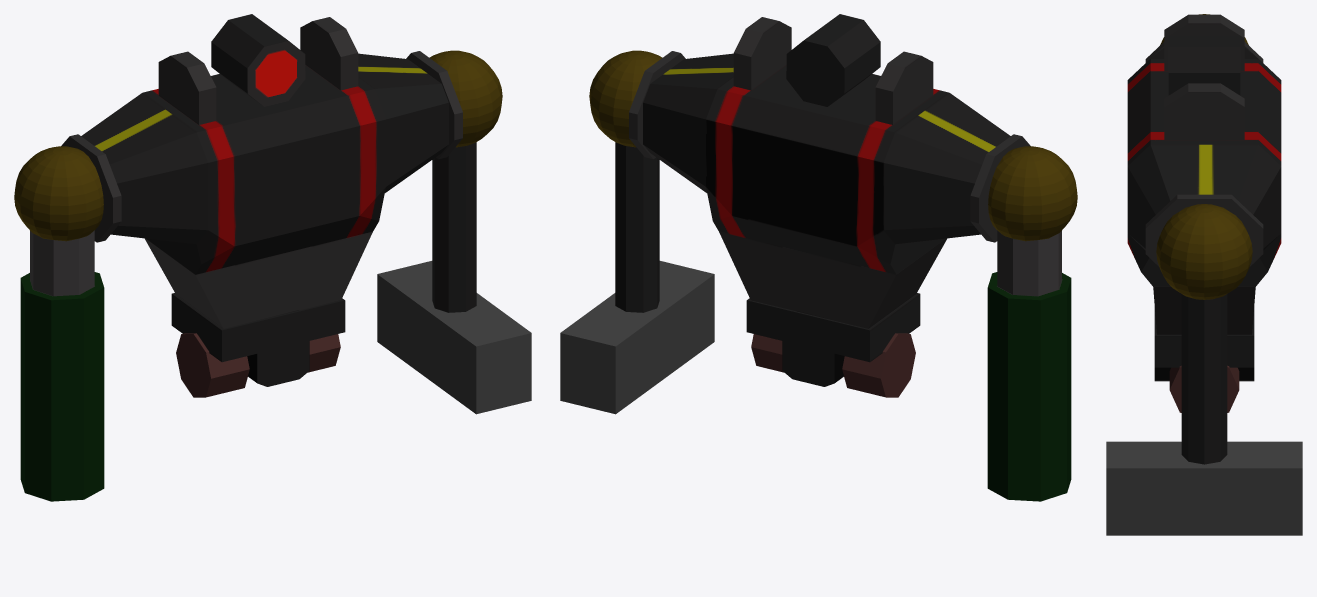
Rendered from Large_Idle.fbx.
3 views of the same model, side by side, from view 1: azimuth 30°, elevation 25°; view 2: azimuth 150°, elevation 25°; view 3: azimuth 270°, elevation 25° (orthographic).
Parts seen in each view (by area): view 1: Cube.036, Cube.031, Cube.032, Cube.030, Cube.035, Cube.033, Cube.034; view 2: Cube.036, Cube.031, Cube.032, Cube.030, Cube.035, Cube.033, Cube.034; view 3: Cube.032, Cube.036, Cube.035, Cube.030, Cube.034.
Boxes of the visible parts, left/top/right/bottom form: Cube.036: left=61, top=17, right=462, bottom=328; Cube.031: left=14, top=146, right=104, bottom=501; Cube.032: left=377, top=50, right=531, bottom=414; Cube.030: left=171, top=293, right=345, bottom=386; Cube.035: left=211, top=14, right=305, bottom=106; Cube.033: left=176, top=333, right=249, bottom=397; Cube.034: left=308, top=334, right=340, bottom=372; Cube.036: left=629, top=17, right=1030, bottom=328; Cube.031: left=987, top=146, right=1077, bottom=501; Cube.032: left=560, top=50, right=714, bottom=414; Cube.030: left=746, top=293, right=920, bottom=386; Cube.035: left=786, top=14, right=880, bottom=106; Cube.033: left=842, top=333, right=915, bottom=397; Cube.034: left=751, top=334, right=783, bottom=372; Cube.032: left=1106, top=204, right=1302, bottom=535; Cube.036: left=1127, top=14, right=1281, bottom=334; Cube.035: left=1168, top=35, right=1240, bottom=95; Cube.030: left=1154, top=308, right=1254, bottom=381; Cube.034: left=1169, top=365, right=1239, bottom=412.
Size of the model in its own units: 11.04 by 11.31 by 3.97.
